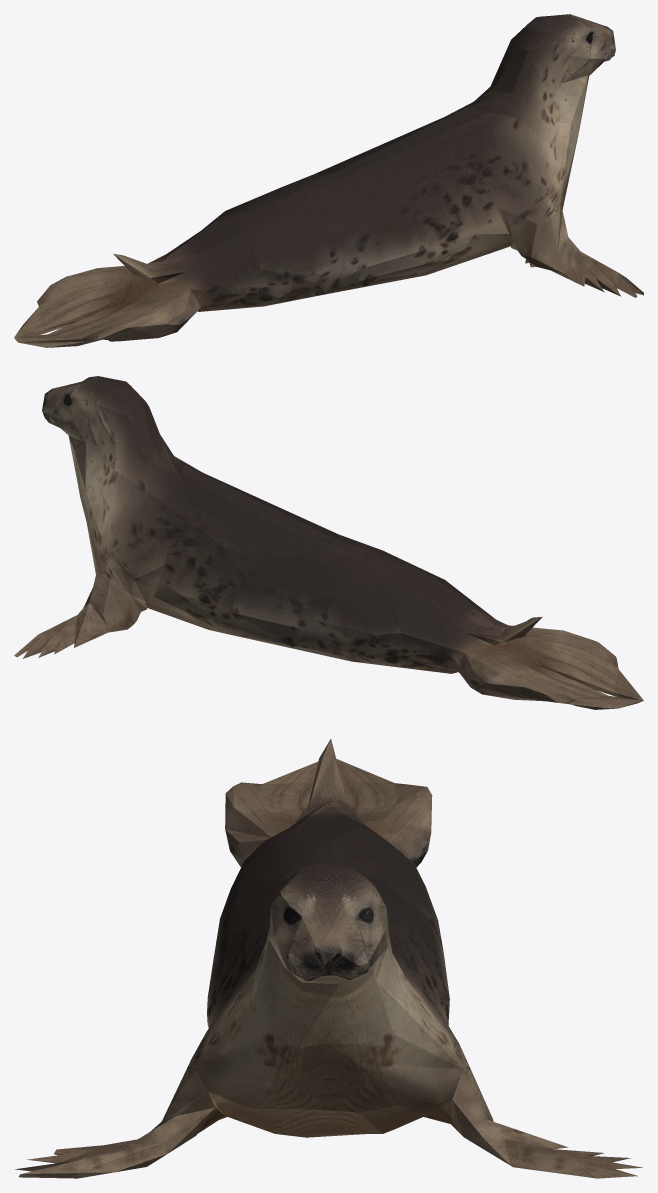
Rendered from foca.fbx.
3 views of the same model, one above another, from view 1: azimuth 30°, elevation 25°; view 2: azimuth 150°, elevation 25°; view 3: azimuth 270°, elevation 25° (orthographic). The views are drawn at different scales.
Visible parts, largest first — view 1: foca.001; view 2: foca.001; view 3: foca.001.
Boxes of the visible parts, box(x1,y1,x2,y2) form: foca.001: box(14, 14, 643, 347); foca.001: box(14, 376, 643, 709); foca.001: box(15, 739, 642, 1178).
Bounding box in the file's own units: 1.8 × 0.584 × 1.06.
Materials: 1 (1 with a texture image).
